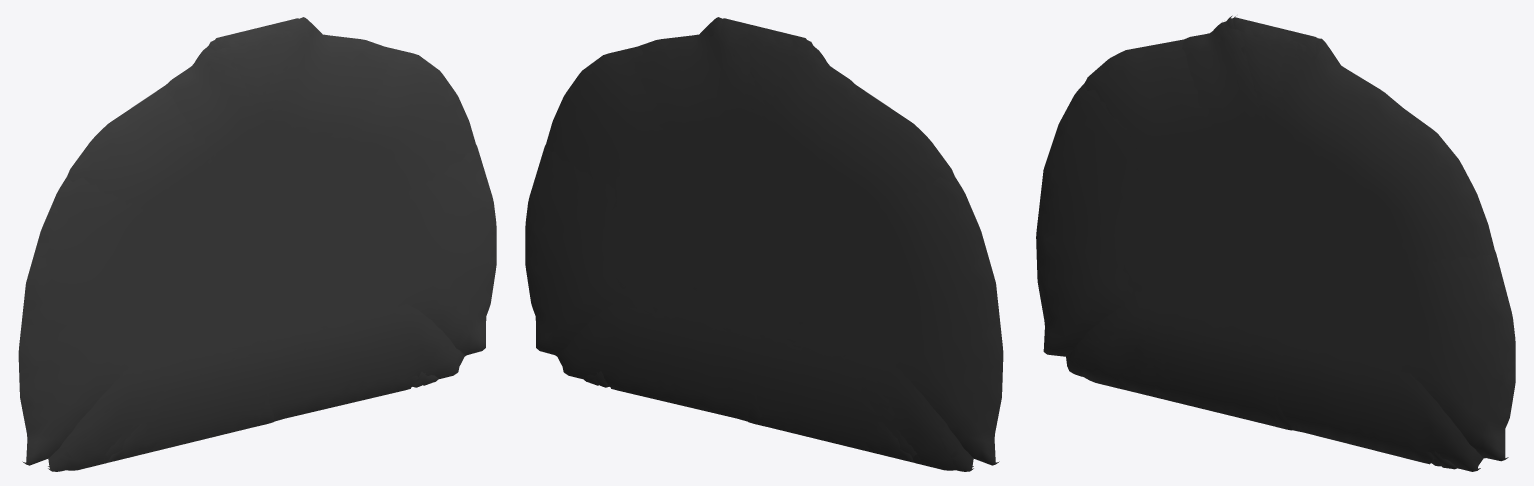
Rendered from jackets.glb.
3 views of the same model, side by side, from view 1: azimuth 30°, elevation 25°; view 2: azimuth 150°, elevation 25°; view 3: azimuth 330°, elevation 25° (orthographic).
Visible parts, largest first — view 1: JI_type-001-sweat-trucker-jacket, JI_type-001-sweat-trucker-jacket-washedblack, JI_type-001-sweat-trucker-jacket-ashgray, JI_type-001-sweat-trucker-jacket-fadedyellow, JI_faded-corduroy-w-tailor-riders-docking-jacket-black, JI_type-001-sweat-trucker-jacket-1; view 2: JI_type-001-sweat-trucker-jacket-washedblack, JI_type-001-sweat-trucker-jacket-fadedyellow, JI_type-001-sweat-trucker-jacket-ashgray, JI_type-001-sweat-trucker-jacket, JI_type-001-sweat-trucker-jacket-sun-faded-balance-exclusive (×2), JI_faded-corduroy-w-tailor-riders-docking-jacket-black, JI_type-001-sweat-trucker-jacket-1, JI_type-006-bomber-armor-black, JI_type-006-bomber-armor-olive; view 3: JI_type-001-sweat-trucker-jacket, JI_type-001-sweat-trucker-jacket-washedblack, JI_type-001-sweat-trucker-jacket-ashgray, JI_type-001-sweat-trucker-jacket-fadedyellow, JI_faded-corduroy-w-tailor-riders-docking-jacket-black, JI_type-001-sweat-trucker-jacket-1.
Part boxes in pixels (box(x1,y1,x2,y2)): JI_type-001-sweat-trucker-jacket: box(48, 29, 464, 470); JI_type-001-sweat-trucker-jacket-washedblack: box(18, 17, 496, 465); JI_type-001-sweat-trucker-jacket-ashgray: box(67, 26, 475, 389); JI_type-001-sweat-trucker-jacket-fadedyellow: box(108, 18, 466, 462); JI_faded-corduroy-w-tailor-riders-docking-jacket-black: box(166, 35, 273, 426); JI_type-001-sweat-trucker-jacket-1: box(48, 26, 399, 471); JI_type-001-sweat-trucker-jacket-washedblack: box(525, 17, 1003, 465); JI_type-001-sweat-trucker-jacket-fadedyellow: box(555, 18, 913, 462); JI_type-001-sweat-trucker-jacket-ashgray: box(546, 26, 954, 389); JI_type-001-sweat-trucker-jacket: box(557, 29, 973, 470); JI_type-001-sweat-trucker-jacket-sun-faded-balance-exclusive (×2): box(596, 27, 852, 387); JI_faded-corduroy-w-tailor-riders-docking-jacket-black: box(652, 34, 888, 426); JI_type-001-sweat-trucker-jacket-1: box(626, 26, 973, 471); JI_type-006-bomber-armor-black: box(588, 141, 853, 385); JI_type-006-bomber-armor-olive: box(583, 151, 845, 384); JI_type-001-sweat-trucker-jacket: box(1073, 23, 1483, 471); JI_type-001-sweat-trucker-jacket-washedblack: box(1036, 38, 1515, 462); JI_type-001-sweat-trucker-jacket-ashgray: box(1085, 15, 1494, 464); JI_type-001-sweat-trucker-jacket-fadedyellow: box(1125, 16, 1485, 458); JI_faded-corduroy-w-tailor-riders-docking-jacket-black: box(1182, 21, 1291, 430); JI_type-001-sweat-trucker-jacket-1: box(1066, 21, 1403, 398).
Size of the model in its own units: 0.9259 by 0.7376 by 0.058.
1 material, 1 textured.
